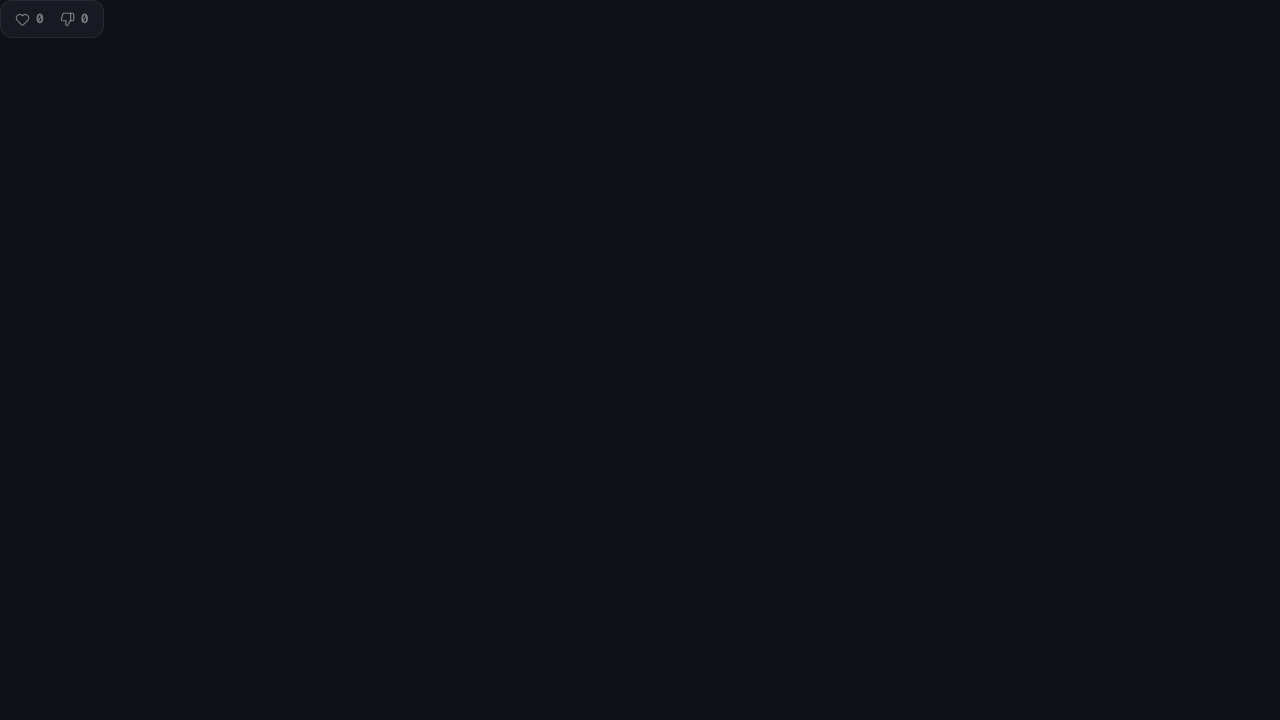
Test case: FeedbackVote › blocks an anonymous viewer and explains why on click instead of voting
Click the button named "like" at {"x": 29, "y": 19}, box [15,9,44,29]
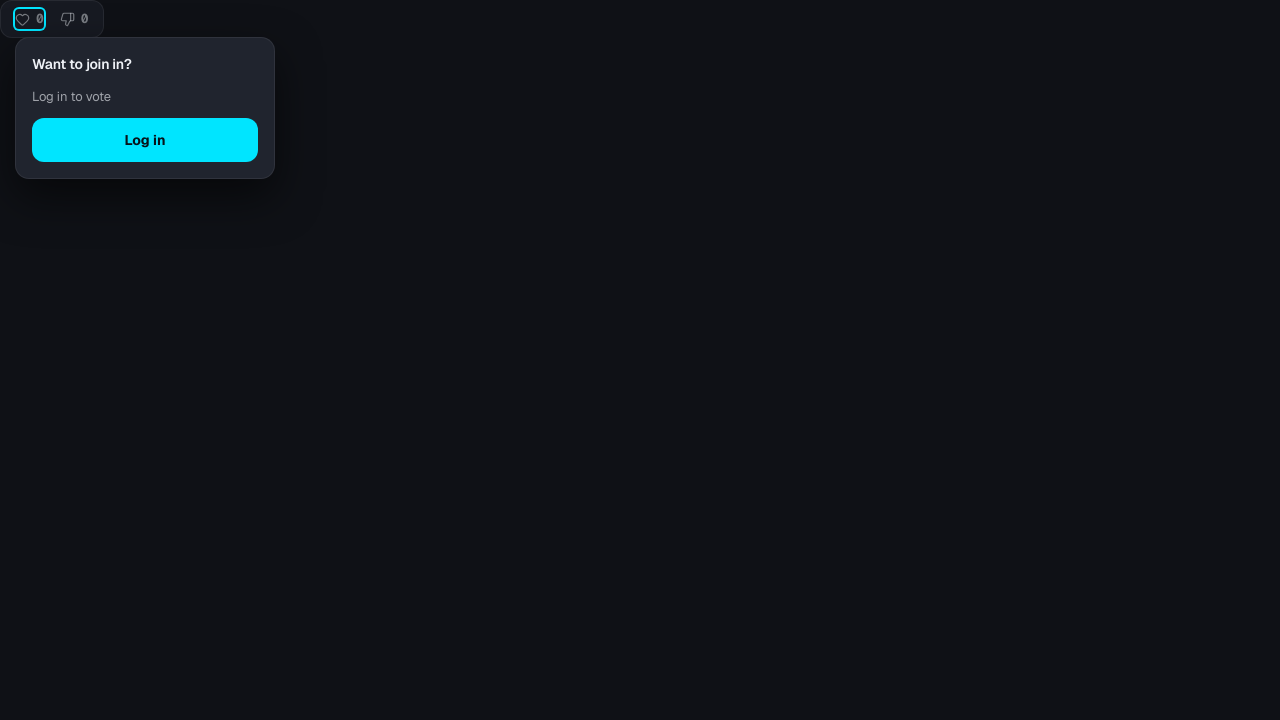
expect the dialog shows "Log in to vote": met, box [32,88,111,105]
